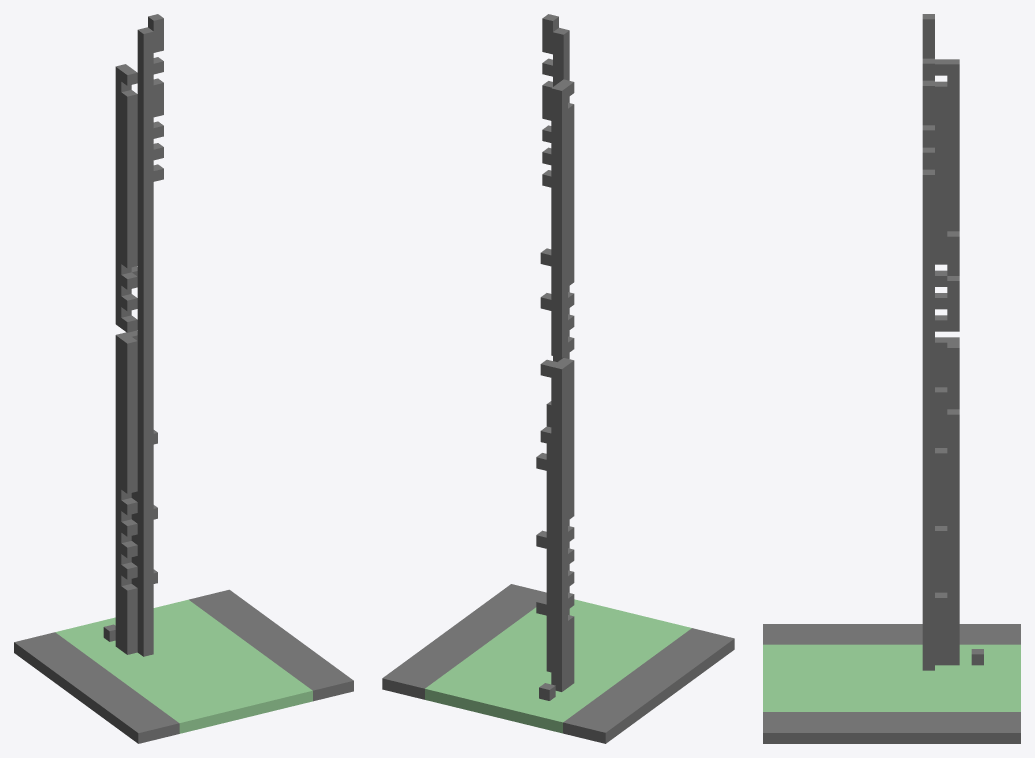
File: macau_tower.glb
3 renders of one model, left to right at view 1: azimuth 30°, elevation 25°; view 2: azimuth 150°, elevation 25°; view 3: azimuth 270°, elevation 25°, orthographic. The views are drawn at different scales.
Size of the model in its own units: 21 by 60 by 21.
